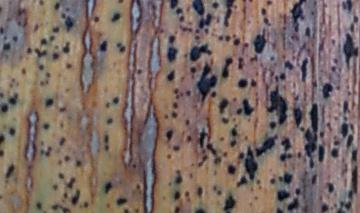tarspot: (266, 86, 287, 124), (197, 63, 217, 102), (344, 33, 359, 68), (255, 134, 278, 156), (245, 145, 257, 180), (189, 44, 212, 60), (304, 128, 316, 157), (224, 1, 235, 27), (291, 1, 305, 21), (253, 33, 266, 53), (222, 57, 232, 78), (311, 104, 318, 133), (352, 166, 359, 194), (224, 195, 236, 211), (293, 106, 302, 127), (192, 1, 205, 15), (243, 98, 253, 115), (301, 58, 308, 81), (322, 83, 333, 97), (219, 97, 228, 114), (199, 129, 207, 148), (168, 47, 178, 62), (34, 47, 47, 58), (277, 189, 290, 200), (288, 198, 299, 211), (281, 137, 291, 151), (318, 143, 325, 163), (65, 16, 73, 32), (43, 97, 54, 108), (237, 176, 248, 187), (178, 25, 193, 33), (207, 143, 217, 155), (72, 190, 80, 205), (5, 164, 13, 179), (284, 172, 293, 185), (283, 59, 293, 70), (204, 13, 212, 26), (104, 181, 112, 194), (341, 122, 348, 136), (346, 134, 353, 148), (237, 79, 247, 88), (62, 42, 70, 53), (99, 40, 107, 51), (167, 70, 175, 81), (330, 147, 338, 158), (198, 17, 205, 29), (327, 182, 334, 194), (116, 198, 128, 205), (111, 13, 120, 22), (1, 103, 9, 113), (7, 97, 17, 105), (68, 178, 76, 188), (166, 129, 173, 140), (175, 174, 182, 185), (311, 174, 318, 185), (238, 55, 243, 70), (3, 42, 11, 51), (175, 7, 184, 15), (232, 37, 241, 45), (321, 204, 329, 213), (343, 99, 348, 113), (311, 78, 318, 88), (347, 1, 353, 12), (197, 186, 203, 197), (228, 165, 236, 173), (43, 122, 50, 131), (59, 137, 66, 146), (220, 117, 229, 124), (249, 55, 258, 62), (250, 78, 257, 87), (345, 201, 352, 210), (58, 171, 65, 180), (1, 134, 6, 146), (54, 1, 60, 11), (231, 127, 237, 137), (294, 23, 300, 33), (341, 1, 347, 11), (309, 157, 314, 169), (326, 121, 332, 131), (352, 150, 357, 162), (40, 37, 47, 45), (112, 96, 119, 104), (171, 1, 178, 9), (211, 2, 219, 9), (172, 144, 180, 151), (235, 108, 243, 115), (269, 121, 276, 129), (174, 192, 181, 200), (280, 153, 287, 161), (277, 174, 284, 182), (269, 177, 276, 185), (36, 202, 44, 209), (158, 26, 165, 34), (104, 133, 109, 144), (305, 26, 310, 37), (350, 22, 355, 33), (196, 208, 207, 213), (347, 190, 353, 199), (276, 207, 285, 213), (63, 207, 72, 213), (11, 35, 18, 42), (44, 71, 51, 78), (63, 155, 70, 162), (172, 111, 179, 118), (279, 73, 286, 80), (174, 206, 181, 213), (242, 134, 249, 141), (9, 127, 15, 135), (179, 14, 185, 22), (169, 35, 175, 43), (203, 26, 209, 34), (172, 101, 178, 109), (213, 157, 221, 163), (230, 139, 236, 147), (263, 17, 269, 25), (353, 14, 359, 22), (332, 140, 340, 146), (319, 131, 325, 139), (51, 204, 59, 210), (59, 120, 64, 129), (261, 7, 266, 16), (297, 150, 302, 159), (295, 186, 300, 195), (350, 122, 354, 133), (13, 91, 19, 98), (52, 27, 59, 33), (52, 53, 59, 59), (106, 118, 113, 124), (163, 113, 169, 120), (186, 134, 192, 141), (225, 35, 231, 42), (243, 42, 250, 48), (330, 38, 336, 45), (184, 191, 191, 197), (188, 172, 194, 179), (294, 95, 300, 102), (340, 201, 346, 208), (137, 67, 142, 75), (337, 208, 345, 213), (1, 26, 5, 35), (1, 147, 5, 156), (34, 23, 38, 32), (26, 47, 32, 53), (49, 35, 55, 41), (66, 63, 72, 69), (190, 66, 196, 72), (194, 28, 200, 34), (183, 52, 189, 58), (216, 15, 220, 24), (222, 151, 228, 157), (239, 153, 245, 159), (132, 163, 138, 169), (83, 202, 89, 208), (346, 90, 352, 96), (61, 12, 66, 19), (38, 63, 43, 70), (21, 67, 26, 74), (76, 160, 81, 167), (59, 107, 66, 112), (9, 82, 14, 89), (185, 118, 190, 125), (331, 65, 336, 72), (343, 115, 348, 122), (217, 189, 222, 196), (213, 185, 218, 192), (310, 9, 315, 16), (282, 24, 287, 31), (95, 16, 99, 24), (275, 74, 279, 82), (17, 20, 22, 26), (45, 151, 50, 157), (120, 46, 125, 52), (194, 35, 200, 40), (218, 35, 223, 41), (211, 91, 216, 97), (54, 44, 60, 49), (11, 77, 16, 83), (167, 154, 172, 160), (202, 156, 208, 161), (198, 161, 204, 166), (201, 148, 206, 154), (267, 1, 273, 6), (219, 136, 225, 141), (334, 58, 339, 64), (287, 152, 292, 158), (256, 179, 261, 185), (135, 207, 140, 213), (53, 184, 58, 190), (289, 35, 295, 40), (336, 85, 341, 91), (332, 202, 337, 208), (270, 71, 275, 77), (187, 90, 191, 97), (64, 192, 68, 199), (3, 36, 8, 41), (39, 1, 44, 6), (47, 146, 52, 151), (117, 42, 122, 47), (175, 95, 180, 100), (40, 81, 45, 86), (40, 141, 45, 146), (270, 56, 275, 61), (136, 184, 141, 189), (125, 208, 130, 213), (1, 92, 5, 98), (65, 8, 71, 12), (22, 8, 26, 14), (105, 145, 109, 151), (175, 88, 179, 94), (117, 1, 124, 4), (40, 149, 44, 154), (233, 97, 237, 102), (176, 170, 181, 173), (46, 80, 49, 84), (249, 1, 254, 3), (243, 1, 247, 3)
